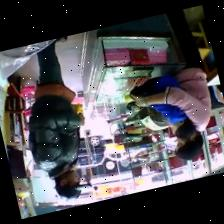person: (135, 10, 211, 159), (28, 36, 91, 199), (130, 74, 180, 96)
